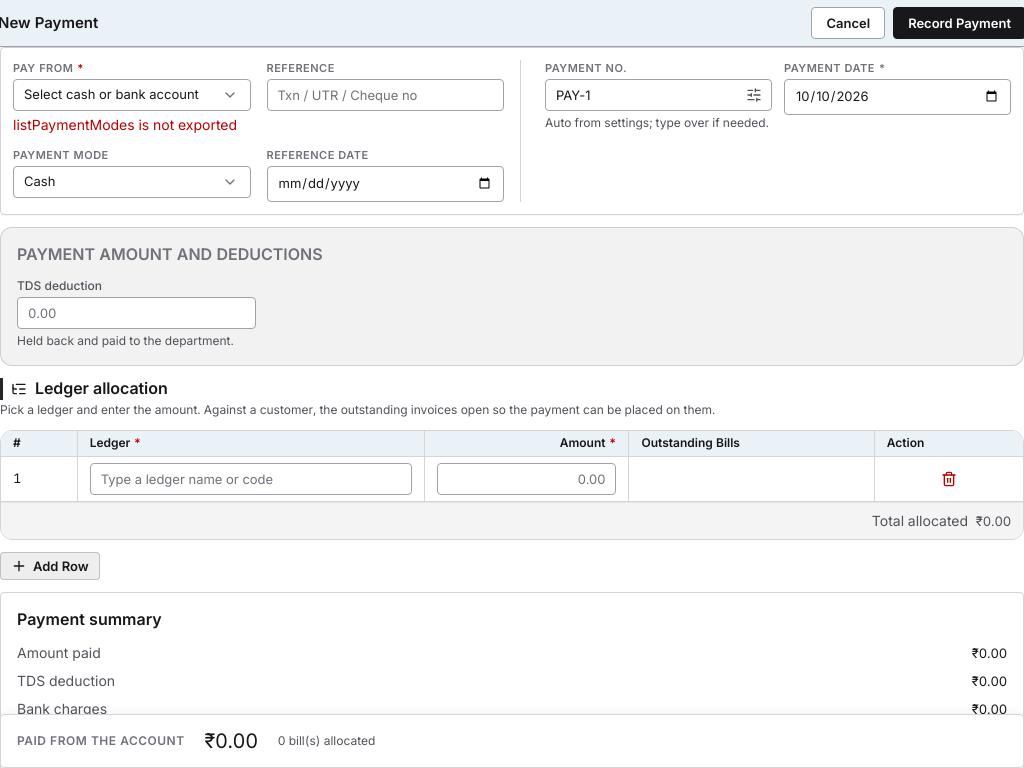
what is held back › says the unallocated part is an advance
Type "ABC" into the dropdown named "Account, allocation row 1" at point(251, 479), box [90,463,412,495]
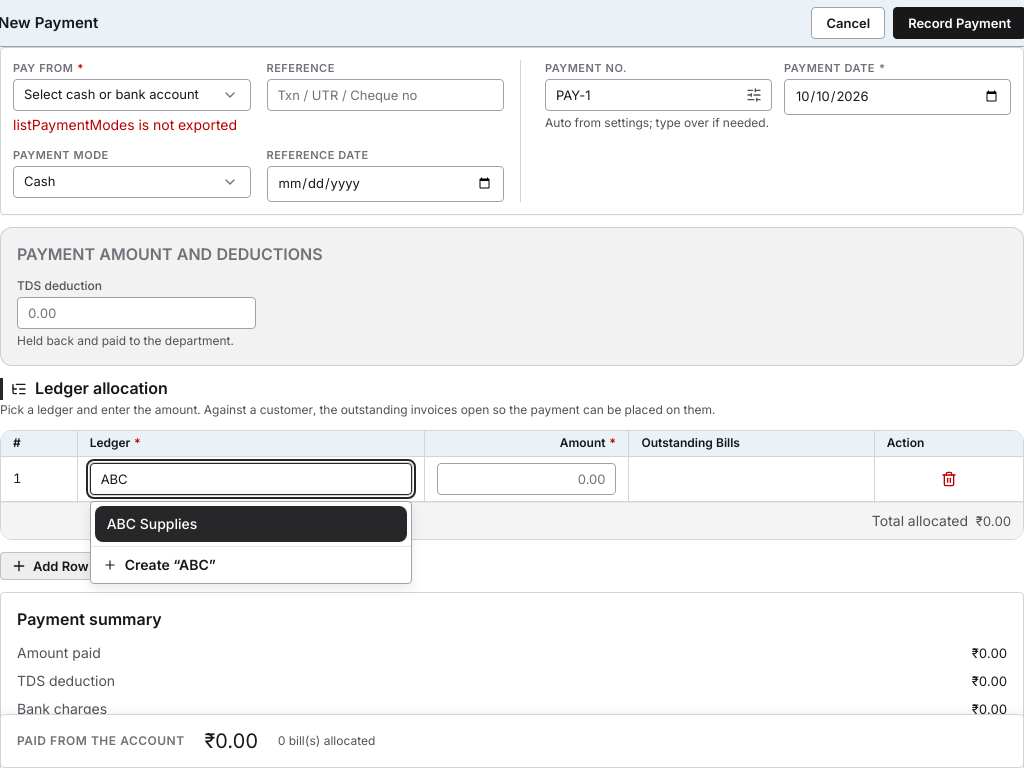
Click the option "ABC Supplies" at point(152, 524), box [95,506,407,542]
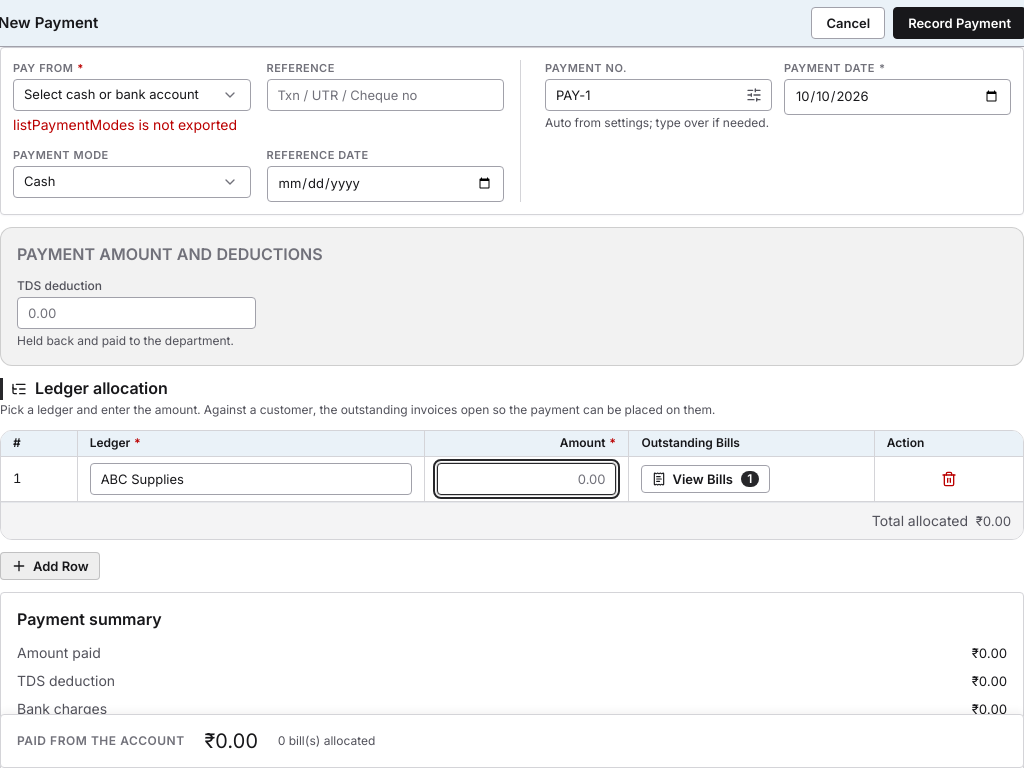
Type "10000" into the number field named "Amount, allocation row 1" at point(527, 479), box [437,463,616,495]
(page scrolled)
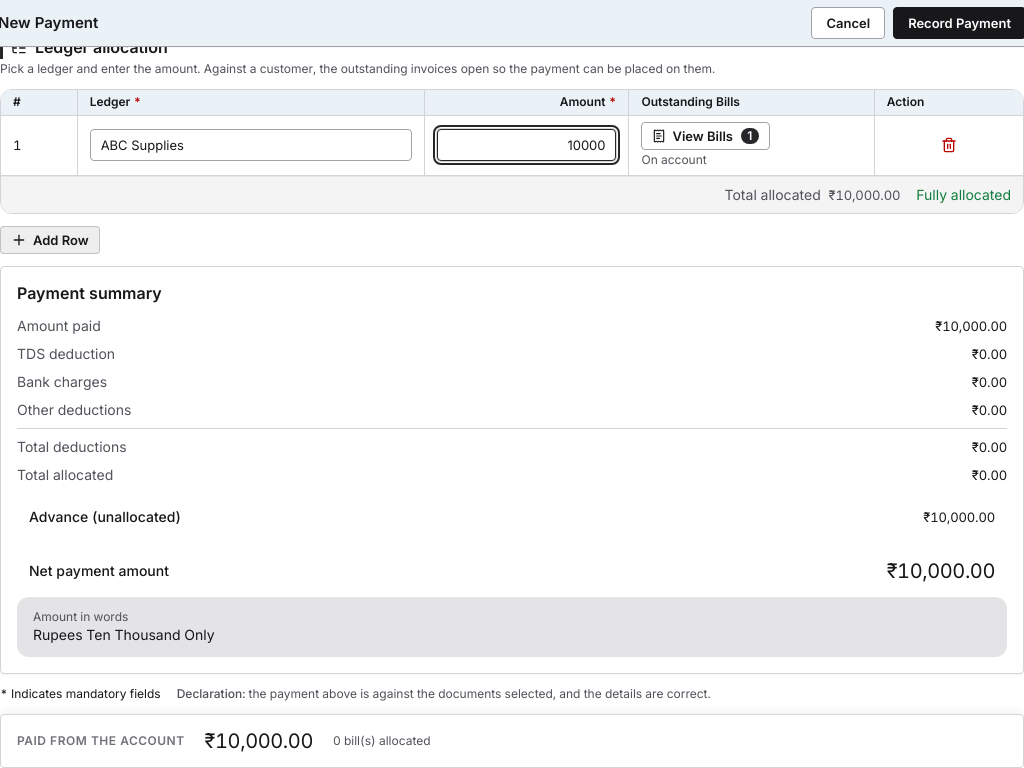
Expected: the element "Payment summary" shows "Advance (unallocated)", [29,508,181,525]
Expected: the element "Payment summary" shows "10,000", [935,318,1007,334]
